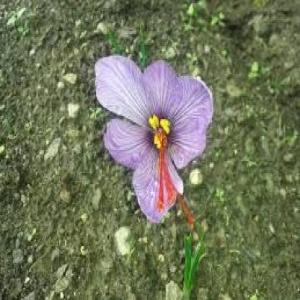Saffron: (96, 56, 213, 224)
